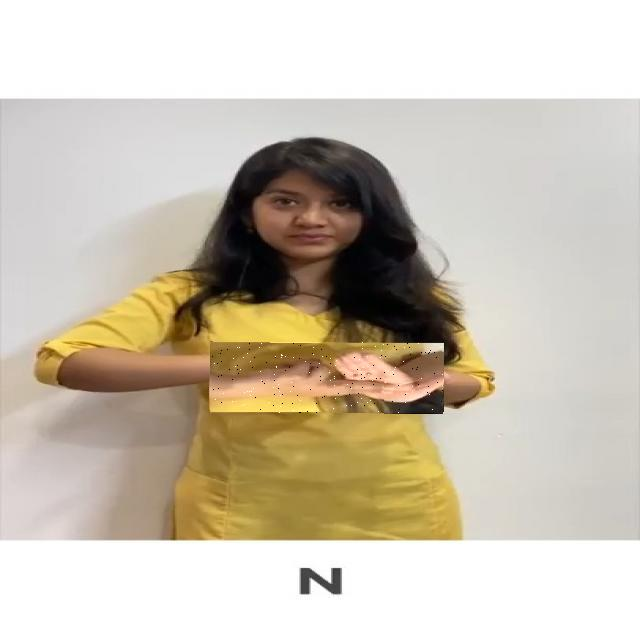N: (210, 342, 444, 413)
